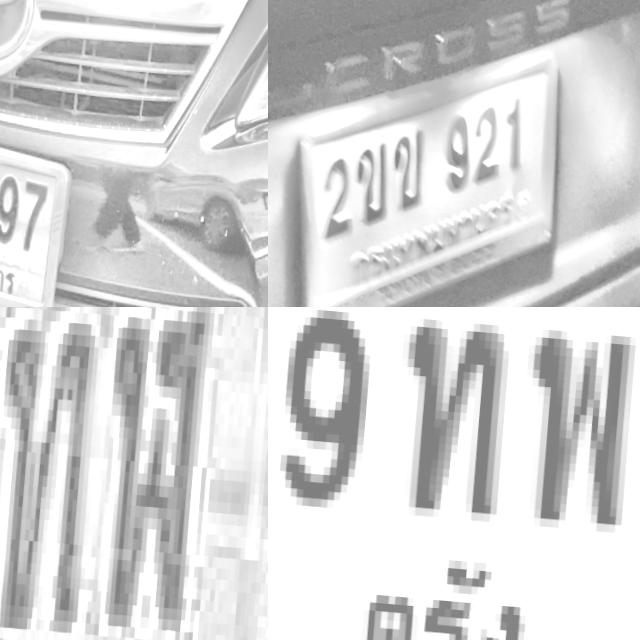license-plate: (268, 307, 640, 640), (0, 307, 268, 640), (276, 22, 571, 307), (0, 105, 77, 307)
